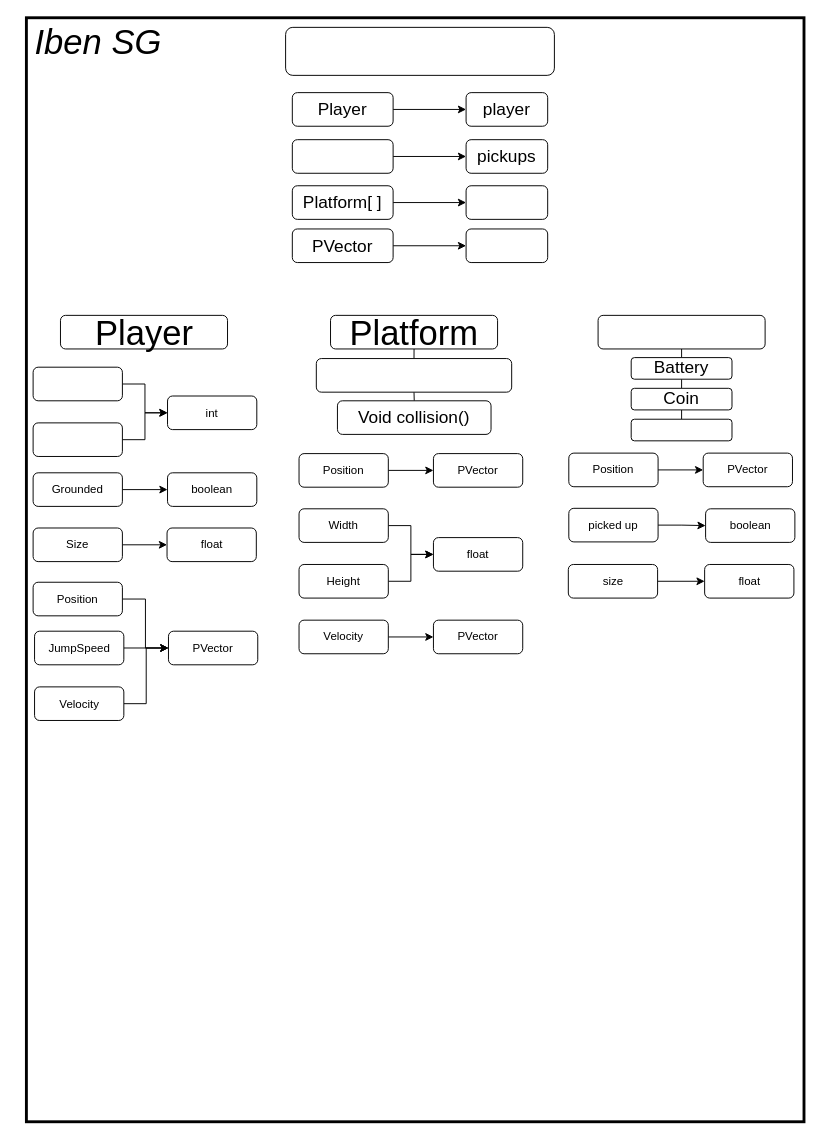
Some shapes in this 822 by 1140 pixel diagram are drawn without their labels. The shapes that lost their labels are listed below. From the top down, each one's box as (x1, y1, x2, y2) in pixels, then its label:
(285, 26, 554, 75): GamMaster
(291, 139, 393, 173): Pickup[ ]
(465, 185, 548, 219): platforms
(465, 228, 548, 263): gravity
(597, 314, 765, 349): Pickup
(32, 366, 122, 401): Health
(315, 358, 512, 392): Void drawPlatform()
(32, 422, 122, 456): Energy
(630, 418, 732, 441): Key
